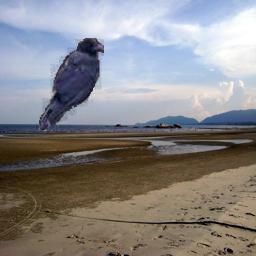Crow: (39, 38, 104, 131)
